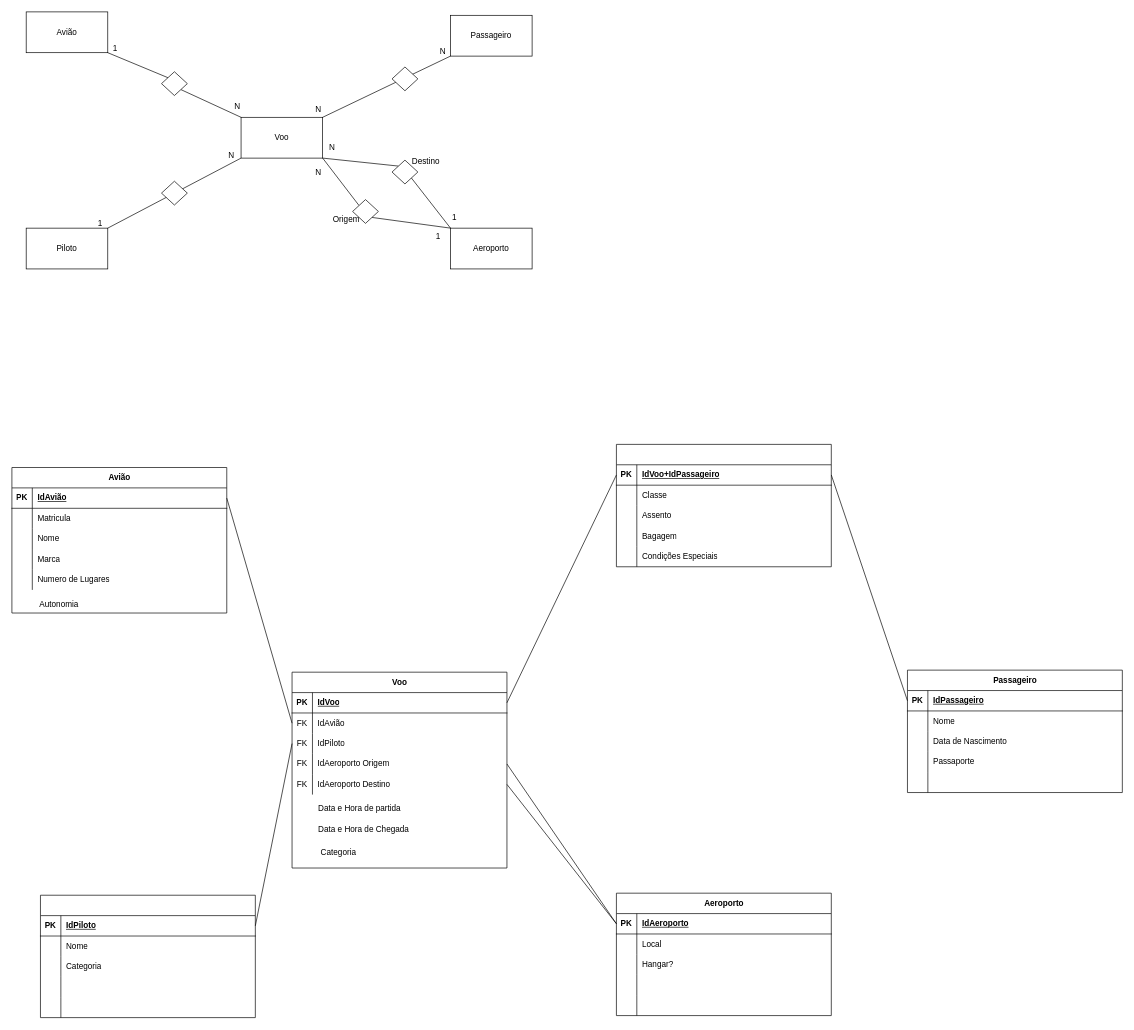
This 1134x1030 diagram has some shape labels left out. The box of each missing label's shape, as (x1, y1, x2, y2) in pixels:
Bilhete: (616, 444, 831, 567)
Pioto: (40, 895, 255, 1018)
